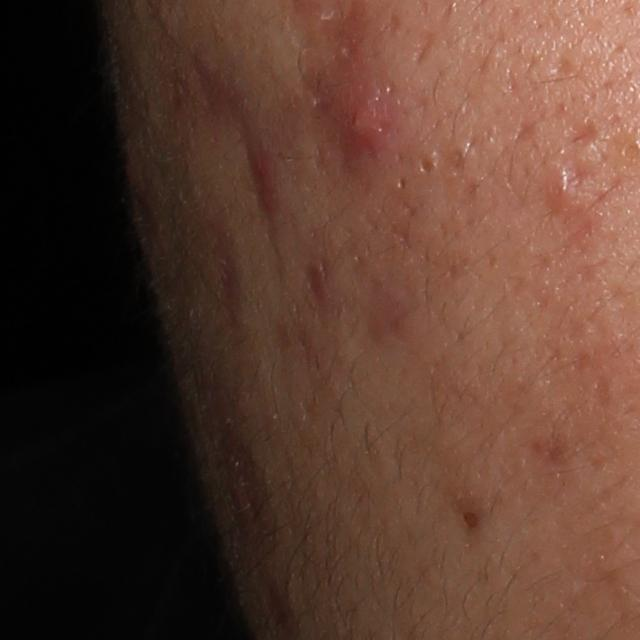atrophic_scar: (570, 118, 600, 152), (551, 49, 577, 76)
comedo: (447, 141, 473, 171), (418, 151, 439, 178), (394, 176, 407, 194)
papule: (323, 70, 397, 156), (248, 141, 276, 216), (545, 172, 573, 209)
